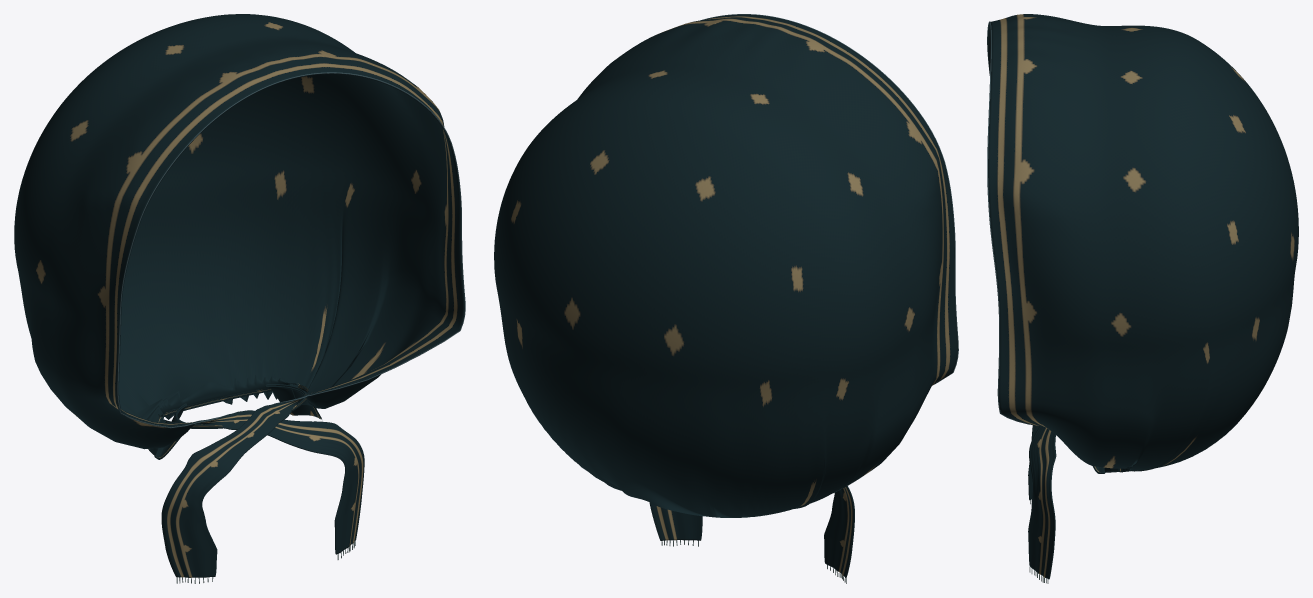
Rendered from Masculine-curly-top-sweatshirt-pashmina250-headgear.glb.
The picture shows the model from 3 angles, left to right: view 1: azimuth 30°, elevation 25°; view 2: azimuth 150°, elevation 25°; view 3: azimuth 270°, elevation 25°; orthographic projection. The views are drawn at different scales.
Parts seen in each view (by area): view 1: 226 headgear / Headwear / continuous woven pashmina239, 226 headgear / Headwear / face edge239; view 2: 226 headgear / Headwear / continuous woven pashmina239, 226 headgear / Headwear / face edge239; view 3: 226 headgear / Headwear / continuous woven pashmina239, 226 headgear / Headwear / face edge239.
Boxes of the visible parts, left/top/right/bottom form: 226 headgear / Headwear / continuous woven pashmina239: left=14, top=14, right=464, bottom=577; 226 headgear / Headwear / face edge239: left=117, top=72, right=465, bottom=428; 226 headgear / Headwear / continuous woven pashmina239: left=494, top=14, right=957, bottom=577; 226 headgear / Headwear / face edge239: left=701, top=14, right=958, bottom=384; 226 headgear / Headwear / continuous woven pashmina239: left=987, top=14, right=1298, bottom=579; 226 headgear / Headwear / face edge239: left=987, top=21, right=1032, bottom=424.
Size of the model in its own units: 1.07 by 1.41 by 0.7828.
3 materials, 1 textured.
